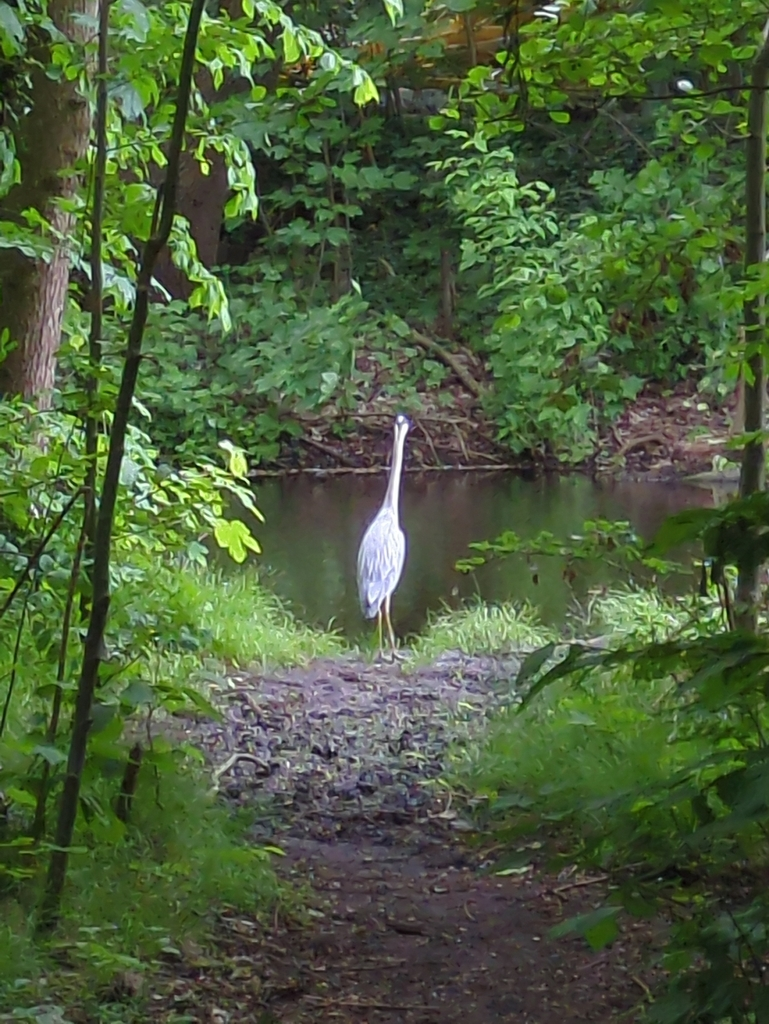heron: (354, 412, 409, 656)
